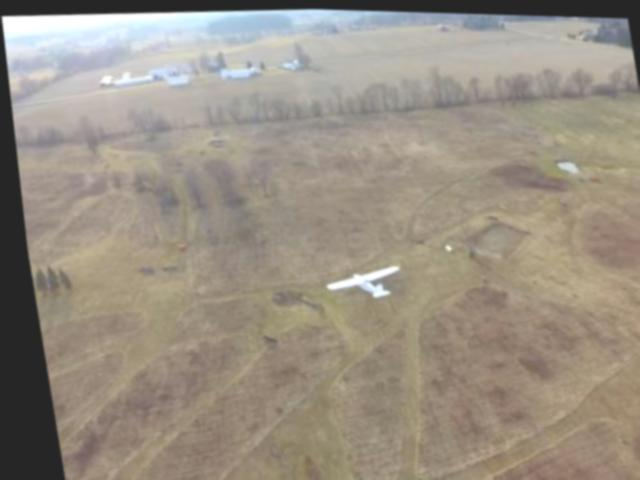uav: (305, 250, 405, 309)
